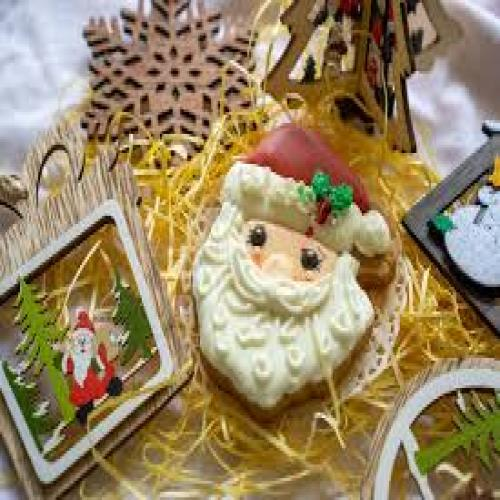Santa: (191, 124, 389, 413), (53, 311, 124, 427)
